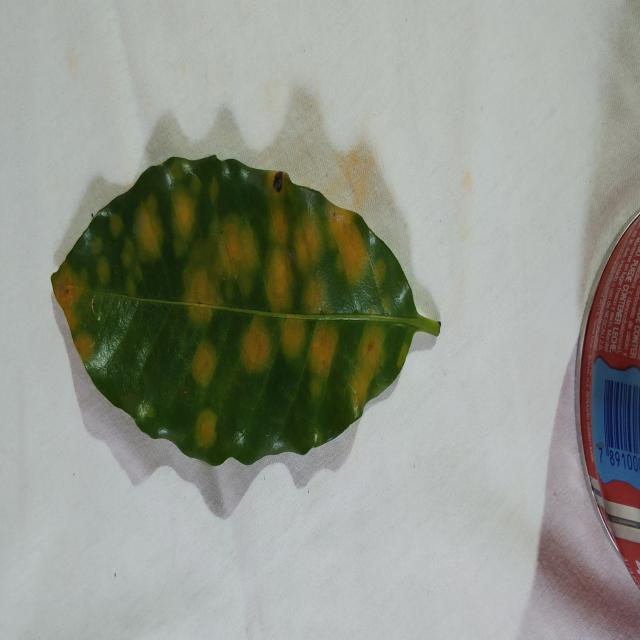Enfermedad-Roya: (48, 156, 441, 470)
